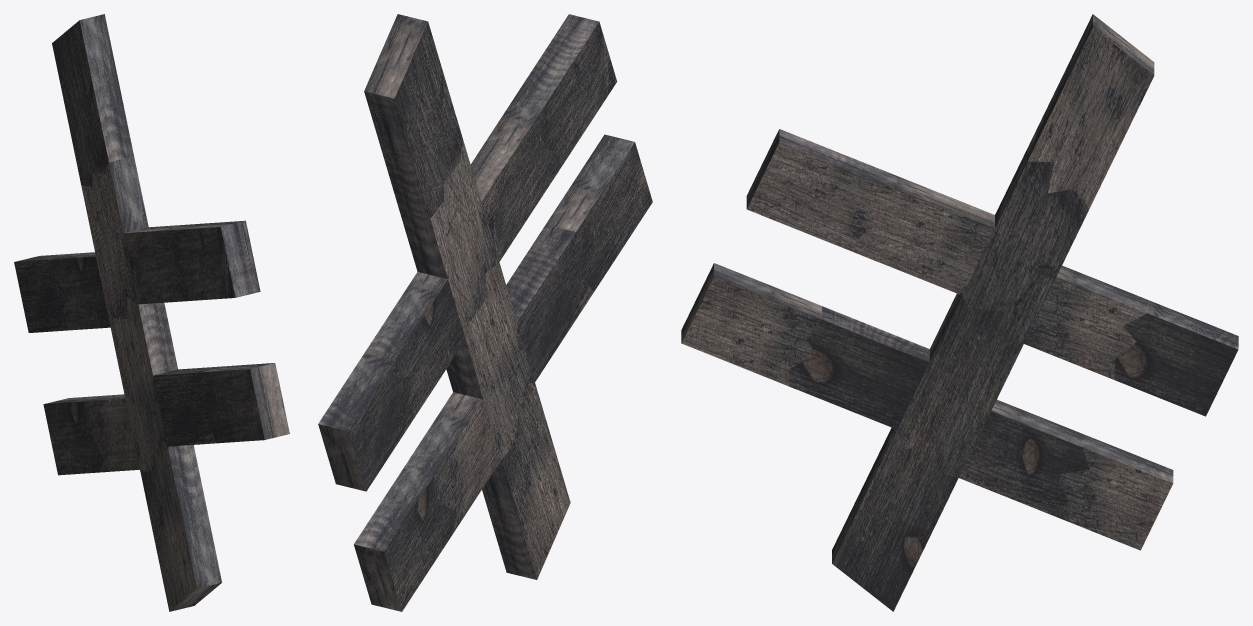
The model's file is wood_planks_obstacle_broken.fbx.
The picture shows the model from 3 angles, left to right: view 1: azimuth 30°, elevation 25°; view 2: azimuth 150°, elevation 25°; view 3: azimuth 270°, elevation 25°; orthographic projection. The views are drawn at different scales.
Visible parts, largest first — view 1: Cube.012, Cube.009, Cube.011, Cube.010, Cube.005, Cube.001, Cube.002, Cube.006, Cube.008, Cube.003, Cube.004, Cube.007; view 2: Cube.009, Cube.012, Cube.008, Cube.004, Cube.005, Cube.001, Cube.010, Cube.011, Cube.002, Cube.006, Cube.003, Cube.007; view 3: Cube.009, Cube.012, Cube.010, Cube.011, Cube.005, Cube.001, Cube.002, Cube.006, Cube.004, Cube.007, Cube.008, Cube.003.
Part boxes in pixels (left/top/right/bottom): Cube.012: left=140, top=437, right=221, bottom=611; Cube.009: left=52, top=14, right=133, bottom=186; Cube.011: left=110, top=297, right=177, bottom=472; Cube.010: left=81, top=156, right=148, bottom=326; Cube.005: left=201, top=363, right=289, bottom=443; Cube.001: left=172, top=220, right=260, bottom=301; Cube.002: left=123, top=224, right=196, bottom=304; Cube.006: left=153, top=366, right=224, bottom=446; Cube.008: left=43, top=395, right=108, bottom=475; Cube.003: left=50, top=252, right=110, bottom=330; Cube.004: left=14, top=253, right=78, bottom=332; Cube.007: left=84, top=394, right=139, bottom=472; Cube.009: left=364, top=14, right=463, bottom=218; Cube.012: left=482, top=382, right=570, bottom=579; Cube.008: left=354, top=468, right=457, bottom=611; Cube.004: left=318, top=348, right=415, bottom=491; Cube.005: left=546, top=134, right=652, bottom=291; Cube.001: left=510, top=14, right=617, bottom=171; Cube.010: left=400, top=142, right=499, bottom=338; Cube.011: left=446, top=262, right=534, bottom=459; Cube.002: left=470, top=104, right=559, bottom=261; Cube.006: left=506, top=225, right=593, bottom=381; Cube.003: left=368, top=272, right=465, bottom=414; Cube.007: left=404, top=392, right=501, bottom=534; Cube.009: left=1027, top=14, right=1154, bottom=209; Cube.012: left=832, top=427, right=958, bottom=611; Cube.010: left=962, top=148, right=1088, bottom=343; Cube.011: left=897, top=293, right=1023, bottom=477; Cube.005: left=681, top=263, right=821, bottom=386; Cube.001: left=746, top=129, right=887, bottom=252; Cube.002: left=854, top=172, right=994, bottom=295; Cube.006: left=789, top=306, right=929, bottom=429; Cube.004: left=1115, top=300, right=1238, bottom=416; Cube.007: left=959, top=399, right=1089, bottom=514; Cube.008: left=1050, top=434, right=1173, bottom=550; Cube.003: left=1024, top=265, right=1147, bottom=379.
Size of the model in its own units: 10 by 200 by 173.
